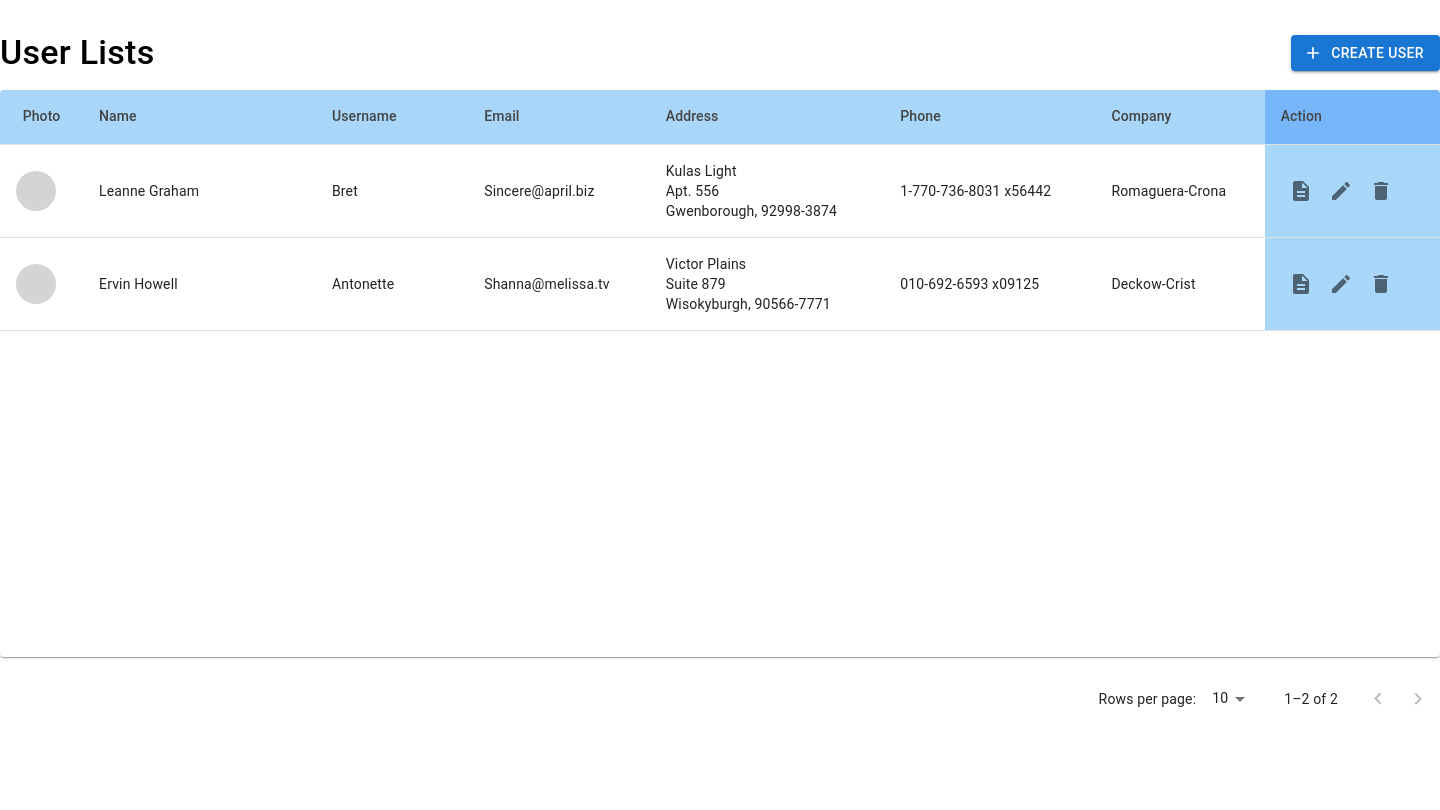
Create user flow
The width and height of the screenshot is (1440, 810).
Note: click create button
Step 1. Click the button with test id "create-user-button" → click(1366, 53), box [1291,35,1439,71]
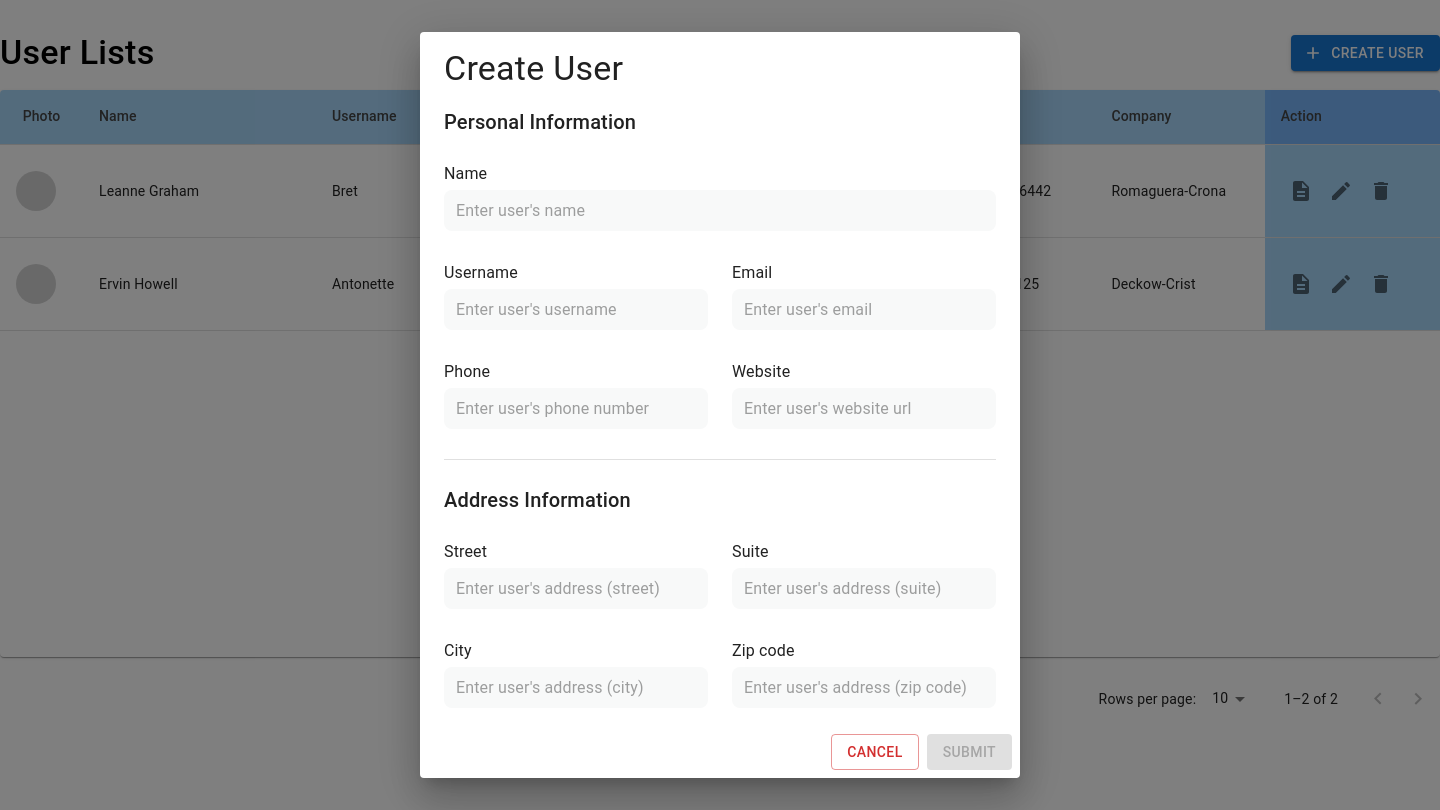
Check: the element with test id "modal-create" is shown
